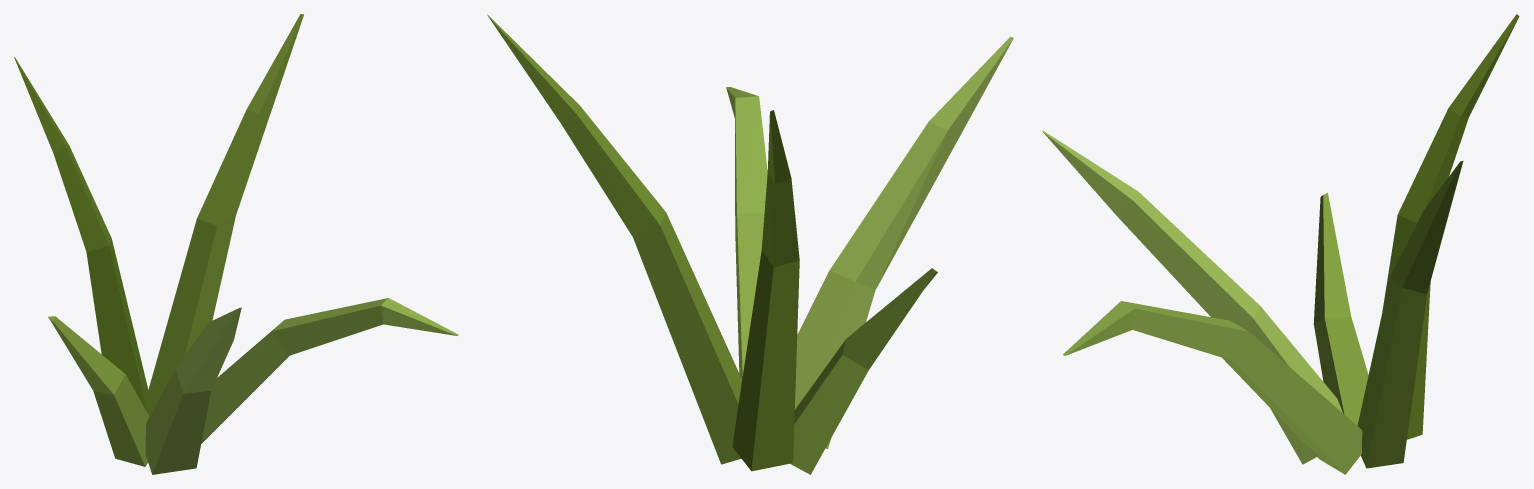
Rendered from Grass_02.fbx.
3 views of the same model, side by side, from view 1: azimuth 30°, elevation 25°; view 2: azimuth 150°, elevation 25°; view 3: azimuth 270°, elevation 25° (orthographic). The views are drawn at different scales.
Visible parts, largest first — view 1: Grass_02; view 2: Grass_02; view 3: Grass_02.
Boxes of the visible parts, <box> form: Grass_02: <box>14,14,458,474</box>; Grass_02: <box>487,14,1013,474</box>; Grass_02: <box>1042,14,1519,474</box>.
Bounding box in the file's own units: 0.7333 × 0.8052 × 0.8609.
